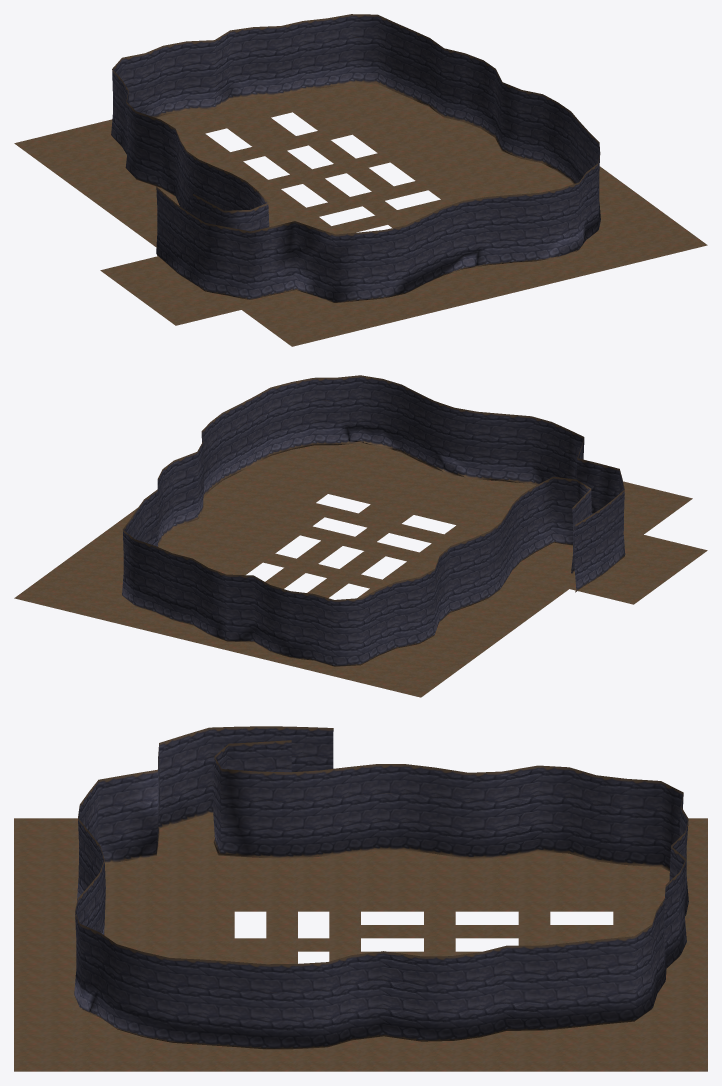
Rendered from map.001.fbx.
The picture shows the model from 3 angles, top to bottom: view 1: azimuth 30°, elevation 25°; view 2: azimuth 150°, elevation 25°; view 3: azimuth 270°, elevation 25°; orthographic projection. The views are drawn at different scales.
Visible parts, largest first — view 1: map.001; view 2: map.001; view 3: map.001.
Boxes of the visible parts, x1,y1,x2,y2 form: map.001: [14, 14, 707, 346]; map.001: [14, 375, 707, 697]; map.001: [14, 726, 707, 1071].
Size of the model in its own units: 6600 by 915 by 6600.
